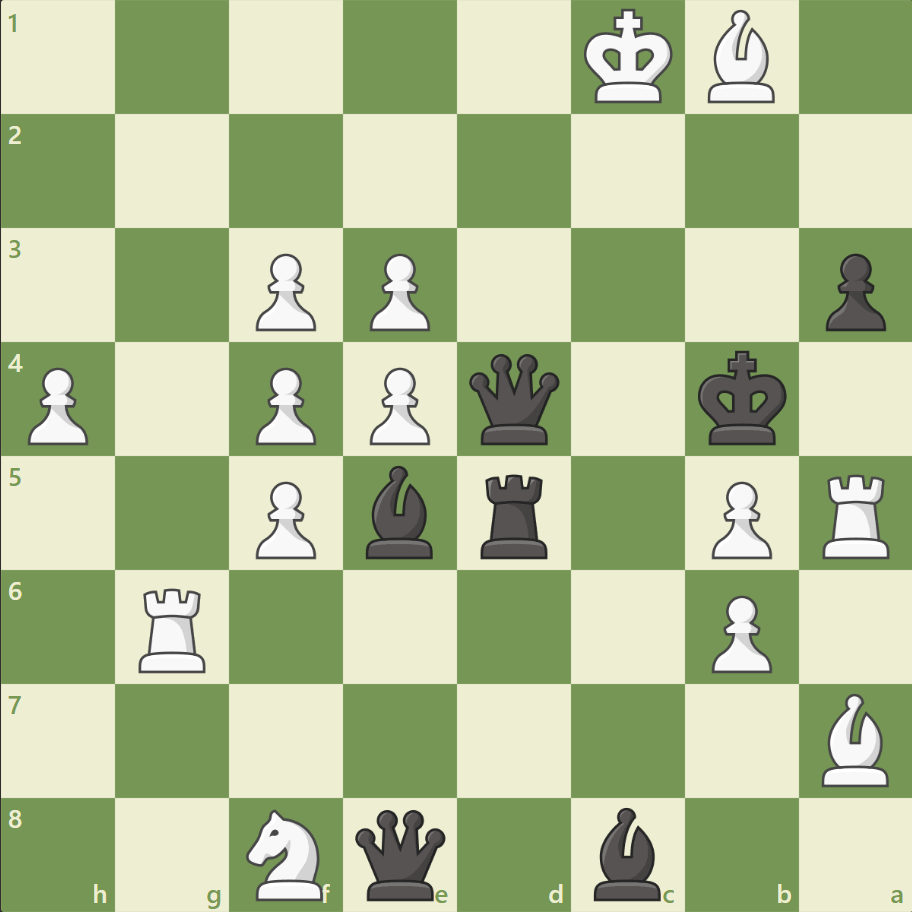B: (812, 687, 896, 790), (698, 6, 782, 109)
K: (579, 4, 679, 112)
N: (238, 802, 335, 904)
P: (701, 586, 776, 677), (701, 473, 776, 564), (247, 473, 322, 564), (247, 359, 322, 450), (20, 359, 95, 450), (247, 246, 322, 337), (361, 359, 435, 450), (361, 246, 435, 337)
R: (814, 466, 897, 563), (133, 579, 215, 676)
b: (585, 801, 669, 904), (358, 460, 442, 563)
k: (692, 344, 792, 452)
p: (815, 246, 889, 337)
q: (464, 349, 563, 449), (351, 804, 450, 903)
r: (473, 466, 556, 563)
